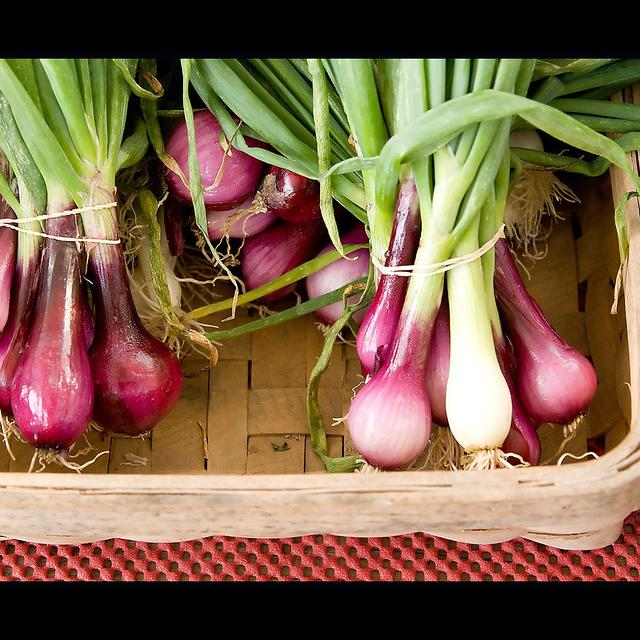green_onion: (192, 58, 640, 424), (348, 119, 510, 470), (447, 206, 528, 470), (400, 61, 429, 112), (473, 60, 522, 88)
